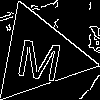M: (14, 30, 66, 82)
